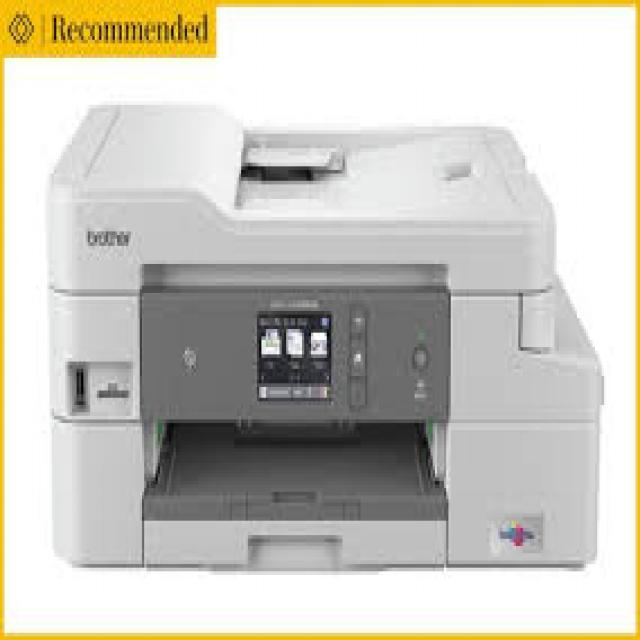printer: (27, 79, 619, 605)
